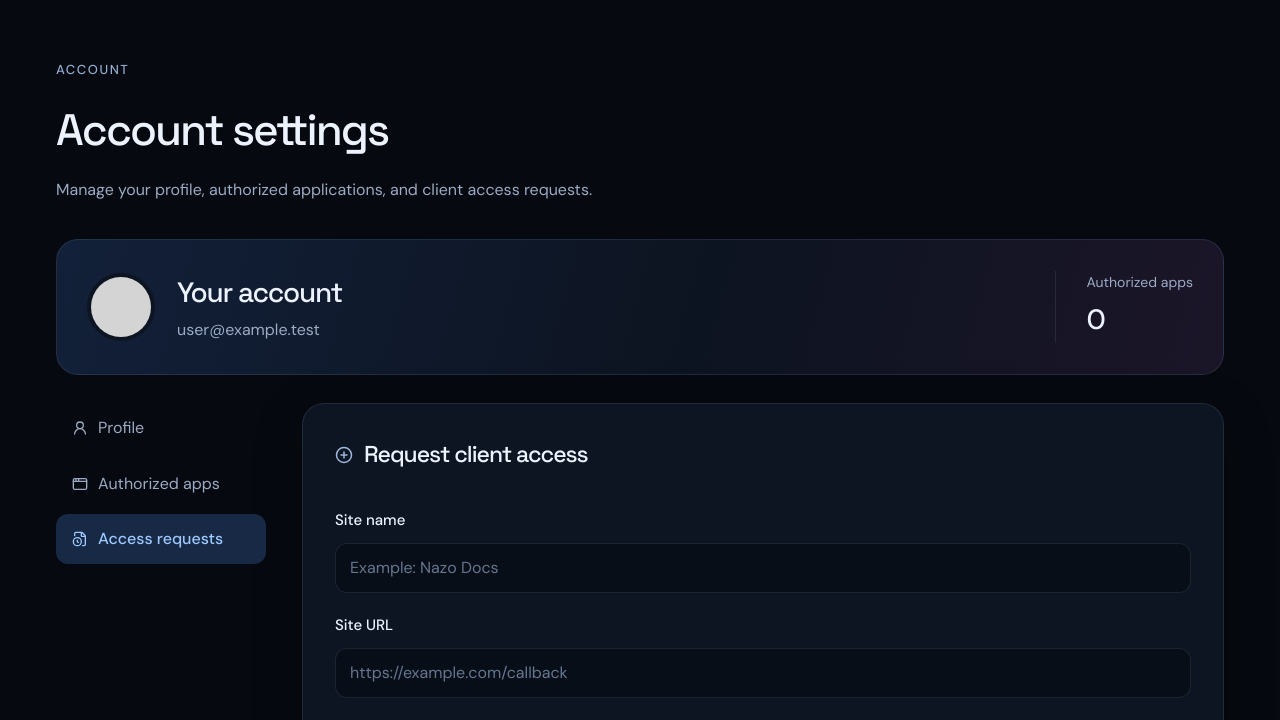
Test case: Profile avatar uploads › uses the created access request without querying the list again
The image size is (1280, 720).
In the field labelled "Site name": (763, 568) left=335, top=543, right=1191, bottom=593, type "Example"
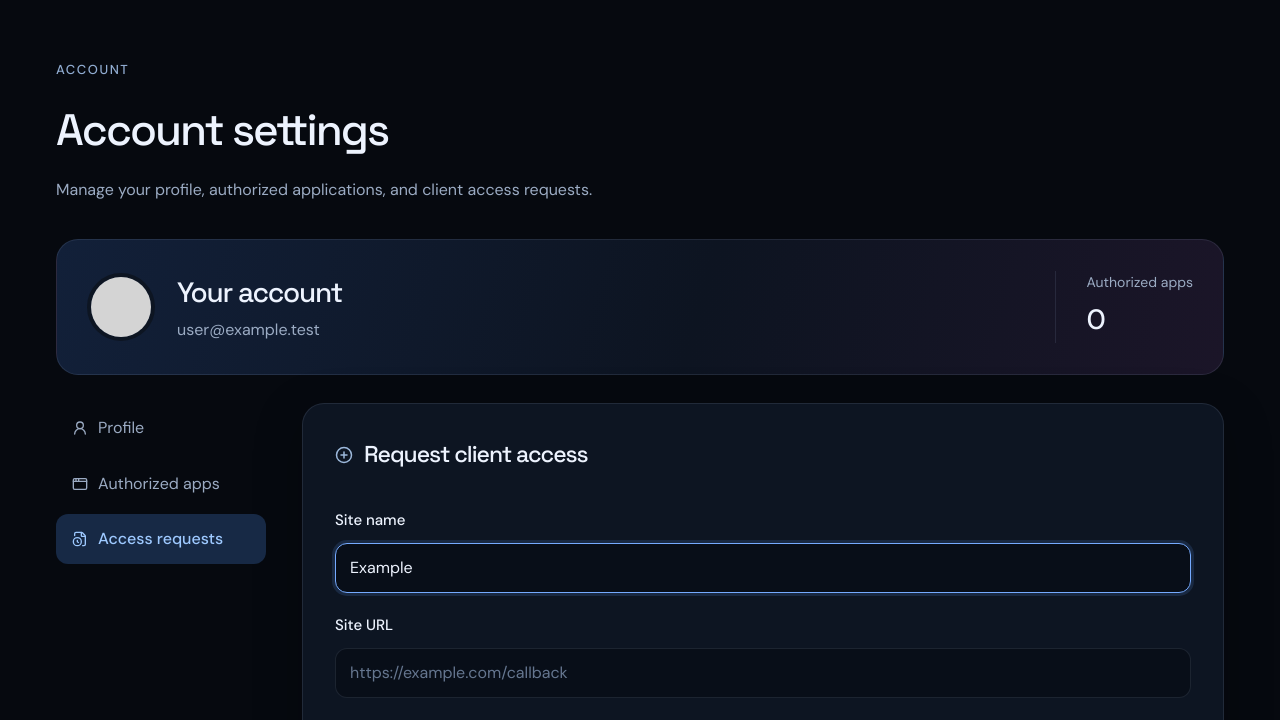
In the field labelled "Site URL": (763, 673) left=335, top=648, right=1191, bottom=698, type "https://example.test"
(page scrolled)
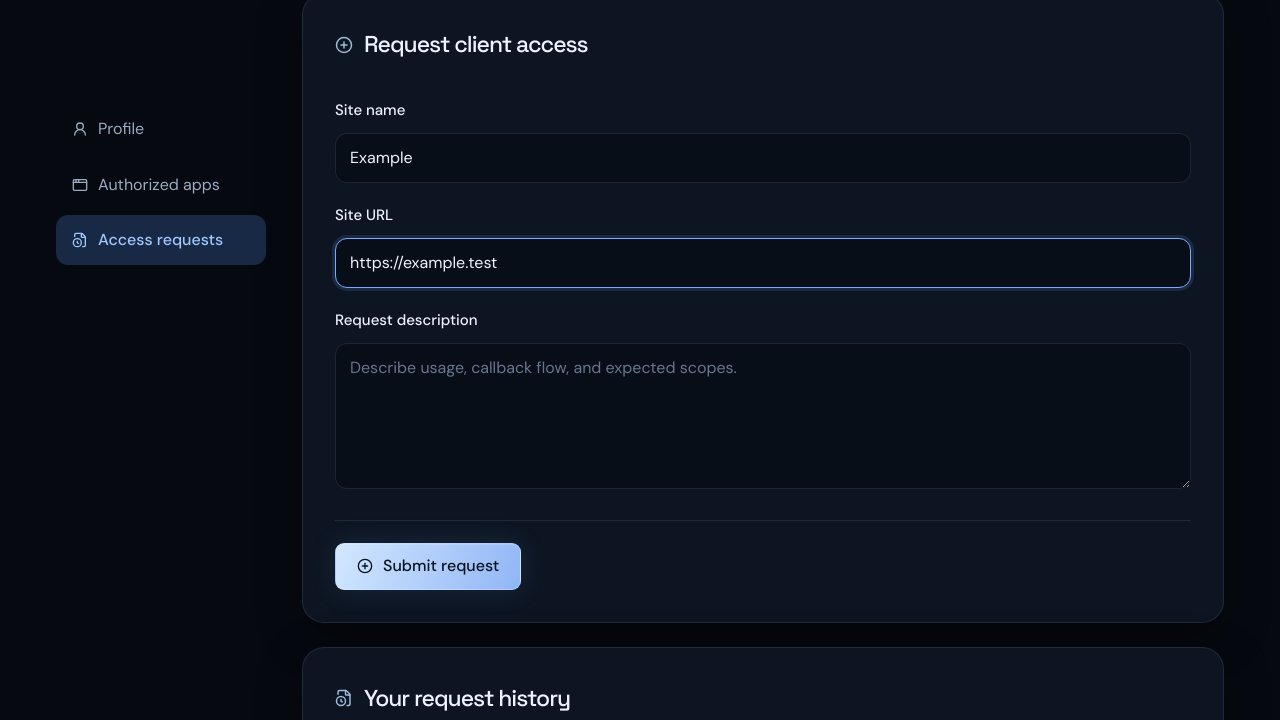
In the text box labelled "Request description": (763, 416) left=335, top=343, right=1191, bottom=489, type "Test integration"
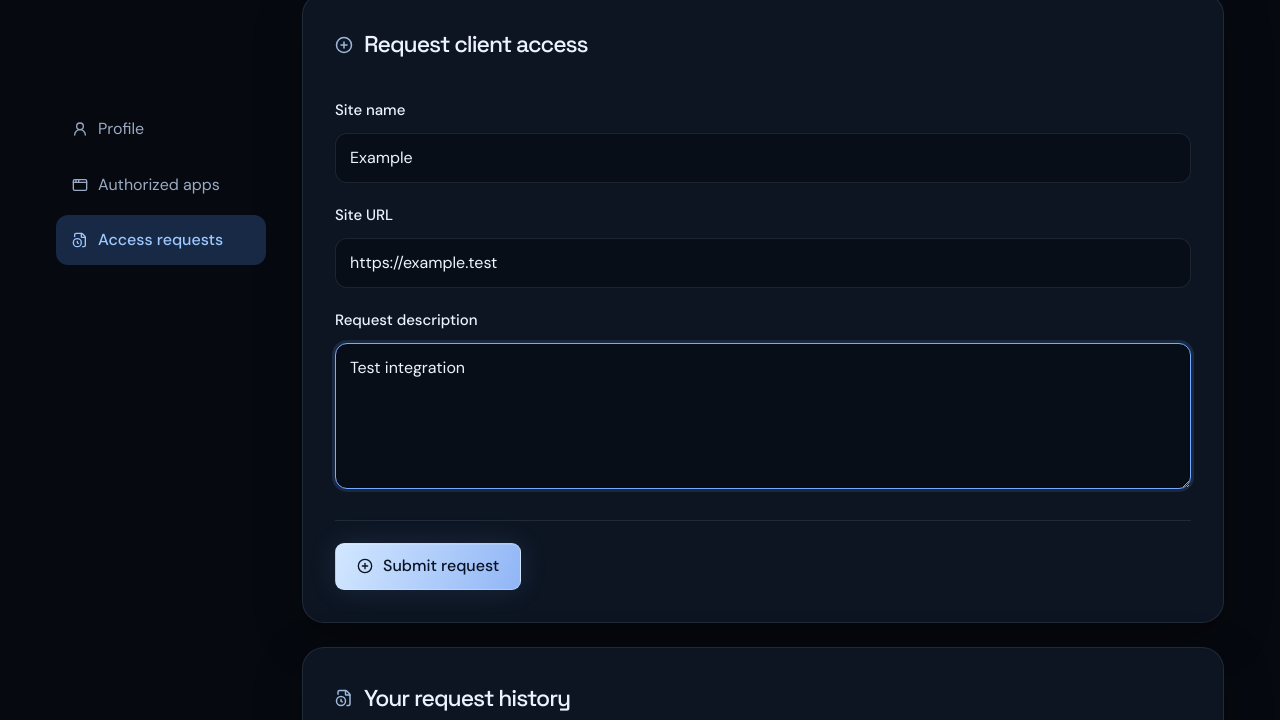
Click the button "Submit request": (428, 566) left=335, top=543, right=521, bottom=590
(page scrolled)
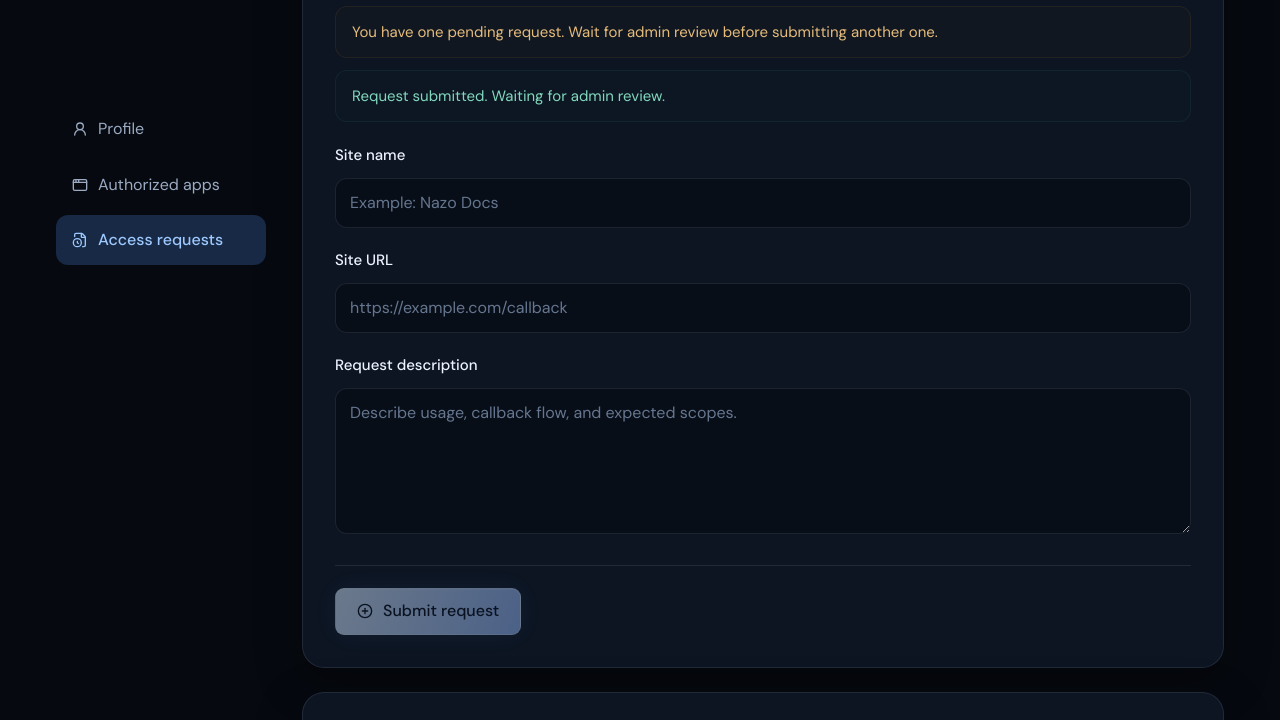
Expected: the text "Request submitted. Waiting for admin review." is shown, left=335, top=70, right=1191, bottom=122
Expected: the button "Submit request" is disabled, left=335, top=588, right=521, bottom=635
